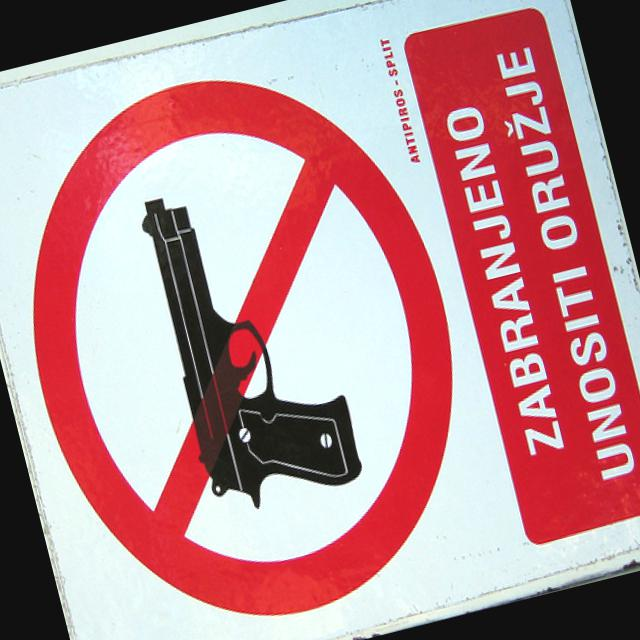handgun: (134, 165, 364, 520)
